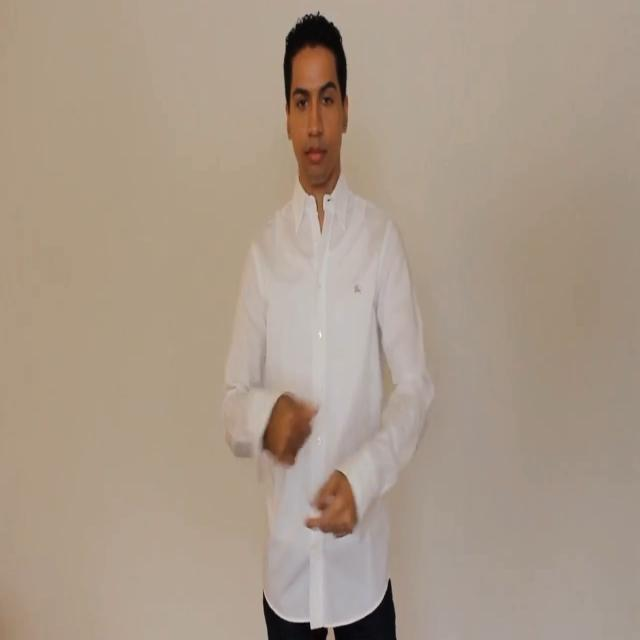Shirt: (222, 165, 436, 630)
